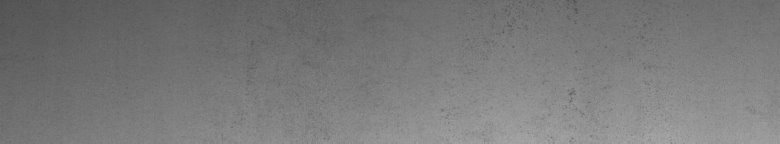ib: (503, 8, 584, 115)
